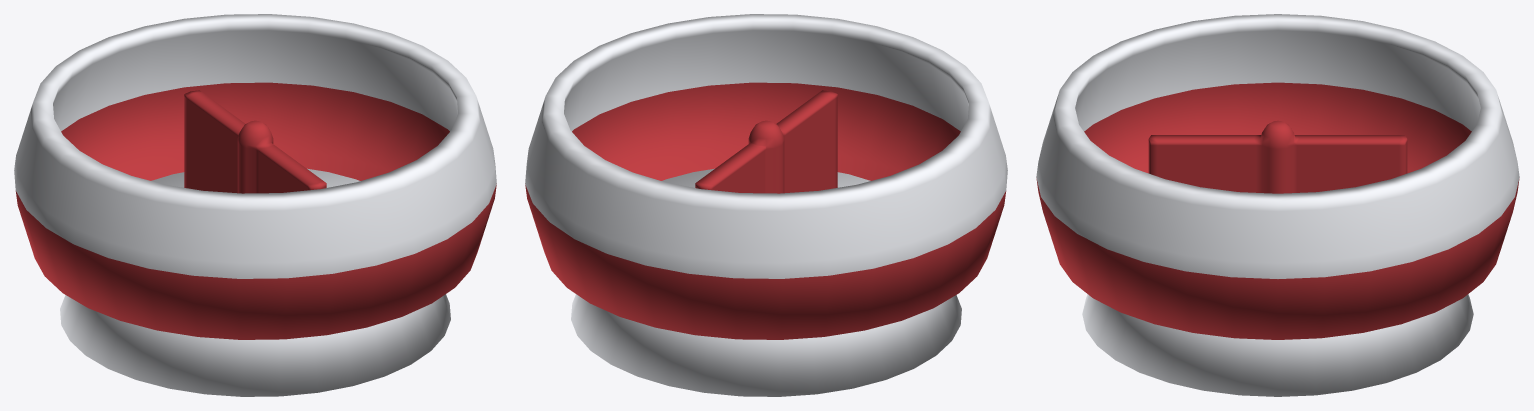
File: CornGN.fbx
The picture shows the model from 3 angles, left to right: view 1: azimuth 30°, elevation 25°; view 2: azimuth 150°, elevation 25°; view 3: azimuth 270°, elevation 25°; orthographic projection.
Visible parts, largest first — view 1: CornGN, CornGN_Roll; view 2: CornGN, CornGN_Roll; view 3: CornGN, CornGN_Roll.
Boxes of the visible parts, left/top/right/bottom form: CornGN: left=14, top=14, right=496, bottom=396; CornGN_Roll: left=184, top=90, right=326, bottom=193; CornGN: left=525, top=14, right=1007, bottom=396; CornGN_Roll: left=695, top=90, right=837, bottom=193; CornGN: left=1036, top=14, right=1519, bottom=396; CornGN_Roll: left=1148, top=120, right=1407, bottom=193.
Bounding box in the file's own units: 434 × 204 × 434.
